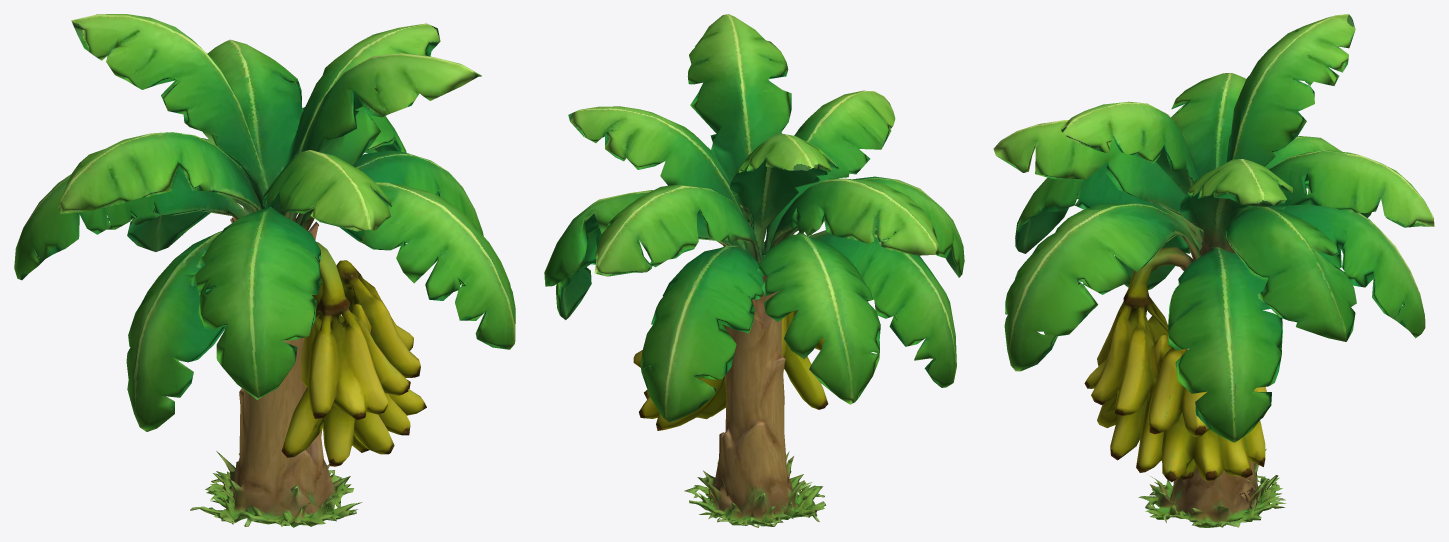
File: banana.glb
3 views of the same model, side by side, from view 1: azimuth 30°, elevation 25°; view 2: azimuth 150°, elevation 25°; view 3: azimuth 270°, elevation 25° (orthographic). The views are drawn at different scales.
Size of the model in its own units: 0.9287 by 0.9987 by 0.9009.
1 material, 1 textured.
